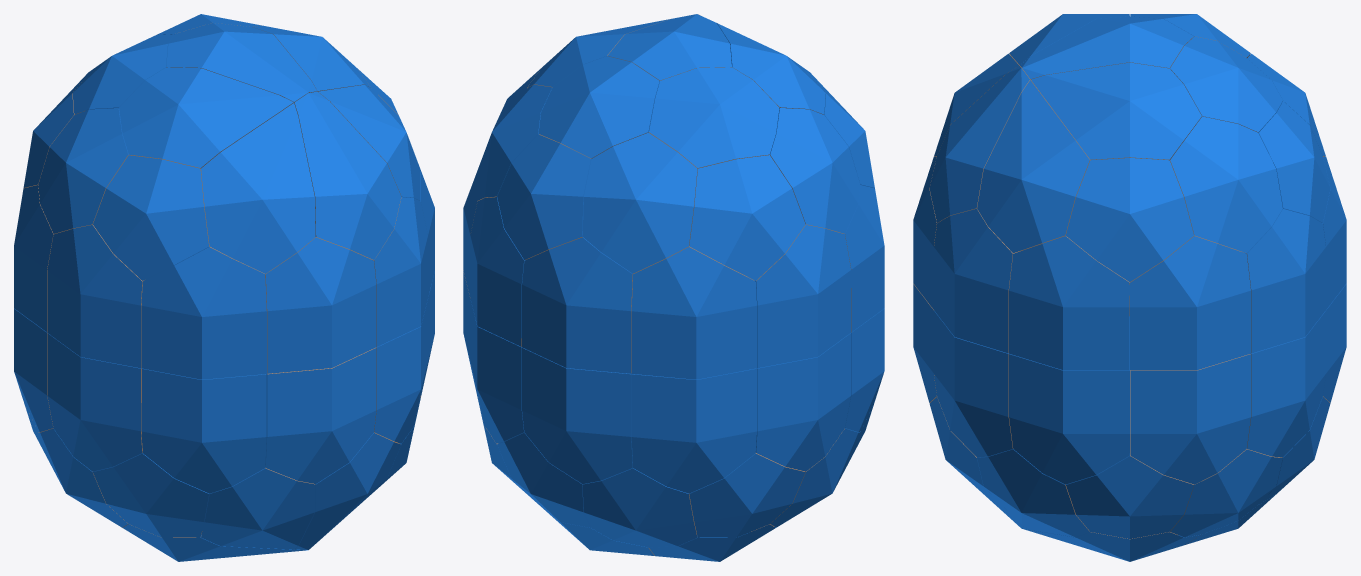
File: cube-explosion.glb
The picture shows the model from 3 angles, left to right: view 1: azimuth 30°, elevation 25°; view 2: azimuth 150°, elevation 25°; view 3: azimuth 270°, elevation 25°; orthographic projection.
Visible parts, largest first — view 1: 棱角球_cell.035, 棱角球_cell.012, 棱角球_cell.044, 棱角球_cell.025, 棱角球_cell.017, 棱角球_cell.019, 棱角球_cell.015, 棱角球_cell.003, 棱角球_cell.032, 棱角球_cell.007, 棱角球_cell.040, 棱角球_cell.016 (+17 smaller); view 2: 棱角球_cell.005, 棱角球_cell.030, 棱角球_cell.002, 棱角球_cell.004, 棱角球_cell.048, 棱角球_cell.047, 棱角球_cell.029, 棱角球_cell.042, 棱角球_cell.023, 棱角球_cell.001, 棱角球_cell.028, 棱角球_cell.040 (+18 smaller); view 3: 棱角球_cell.034, 棱角球_cell.041, 棱角球_cell.006, 棱角球_cell.022, 棱角球_cell.008, 棱角球_cell.036, 棱角球_cell.020, 棱角球_cell.013, 棱角球_cell.011, 棱角球_cell.039, 棱角球_cell, 棱角球_cell.024 (+19 smaller).
Boxes of the visible parts, x1,y1,x2,y2 form: 棱角球_cell.035: [141, 246, 266, 379]; 棱角球_cell.012: [201, 103, 315, 273]; 棱角球_cell.044: [141, 368, 266, 493]; 棱角球_cell.025: [265, 237, 376, 373]; 棱角球_cell.017: [265, 347, 376, 483]; 棱角球_cell.019: [119, 67, 293, 168]; 棱角球_cell.015: [294, 91, 401, 259]; 棱角球_cell.003: [47, 225, 144, 368]; 棱角球_cell.032: [93, 155, 209, 280]; 棱角球_cell.007: [47, 333, 142, 471]; 棱角球_cell.040: [38, 108, 128, 233]; 棱角球_cell.016: [201, 468, 315, 549]; 棱角球_cell.005: [631, 246, 756, 379]; 棱角球_cell.030: [631, 368, 756, 493]; 棱角球_cell.002: [522, 237, 633, 373]; 棱角球_cell.004: [582, 132, 697, 273]; 棱角球_cell.048: [522, 347, 632, 483]; 棱角球_cell.047: [755, 224, 851, 368]; 棱角球_cell.029: [689, 155, 805, 280]; 棱角球_cell.042: [649, 67, 779, 169]; 棱角球_cell.023: [755, 333, 850, 471]; 棱角球_cell.001: [538, 56, 659, 158]; 棱角球_cell.028: [497, 134, 591, 260]; 棱角球_cell.040: [769, 108, 860, 233]; 棱角球_cell.034: [1130, 236, 1250, 370]; 棱角球_cell.041: [1009, 236, 1129, 370]; 棱角球_cell.006: [1009, 316, 1129, 484]; 棱角球_cell.022: [1130, 354, 1250, 484]; 棱角球_cell.008: [977, 80, 1089, 253]; 棱角球_cell.036: [1031, 62, 1201, 160]; 棱角球_cell.020: [1066, 158, 1193, 281]; 棱角球_cell.013: [1170, 116, 1282, 253]; 棱角球_cell.011: [934, 208, 1018, 353]; 棱角球_cell.039: [1242, 209, 1325, 353]; 棱角球_cell: [934, 311, 1013, 457]; 棱角球_cell.024: [1247, 311, 1325, 457].
Bounding box in the file's own units: 1.9 × 2.64 × 2.
